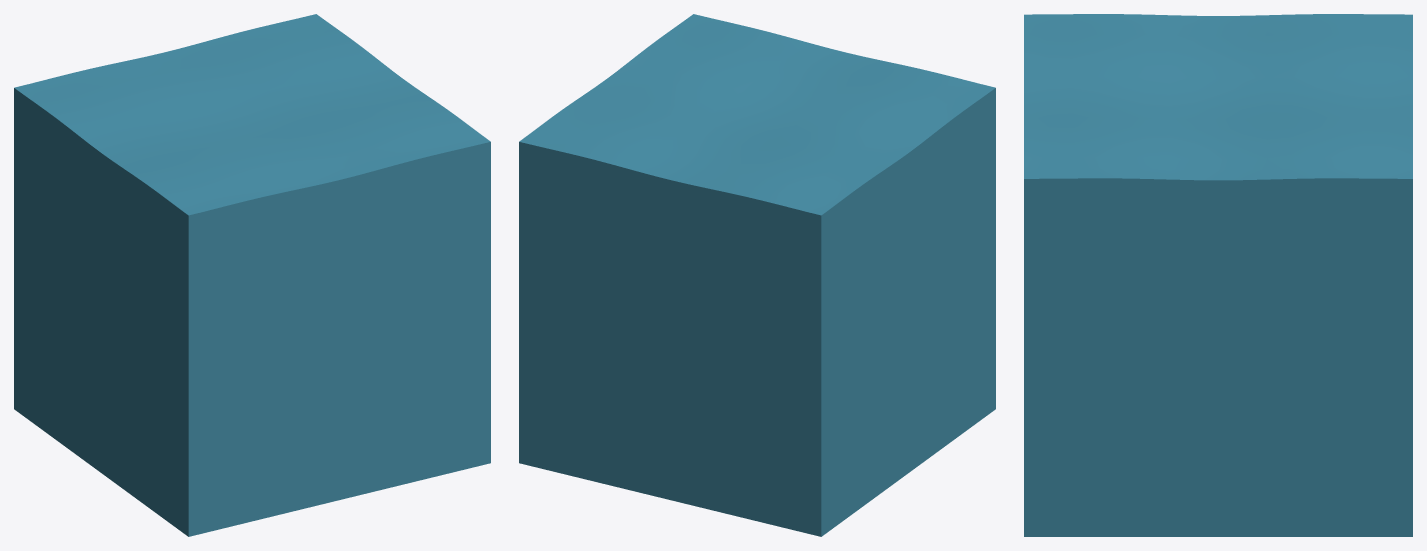
Rendered from slpool_wave21.glb.
3 views of the same model, side by side, from view 1: azimuth 30°, elevation 25°; view 2: azimuth 150°, elevation 25°; view 3: azimuth 270°, elevation 25° (orthographic). The views are drawn at different scales.
Visible parts, largest first — view 1: poolWater; view 2: poolWater; view 3: poolWater.
Part boxes in pixels (left/top/right/bottom): poolWater: left=14, top=14, right=490, bottom=536; poolWater: left=519, top=14, right=995, bottom=536; poolWater: left=1024, top=14, right=1412, bottom=536.
Size of the model in its own units: 2 by 2.04 by 2.
